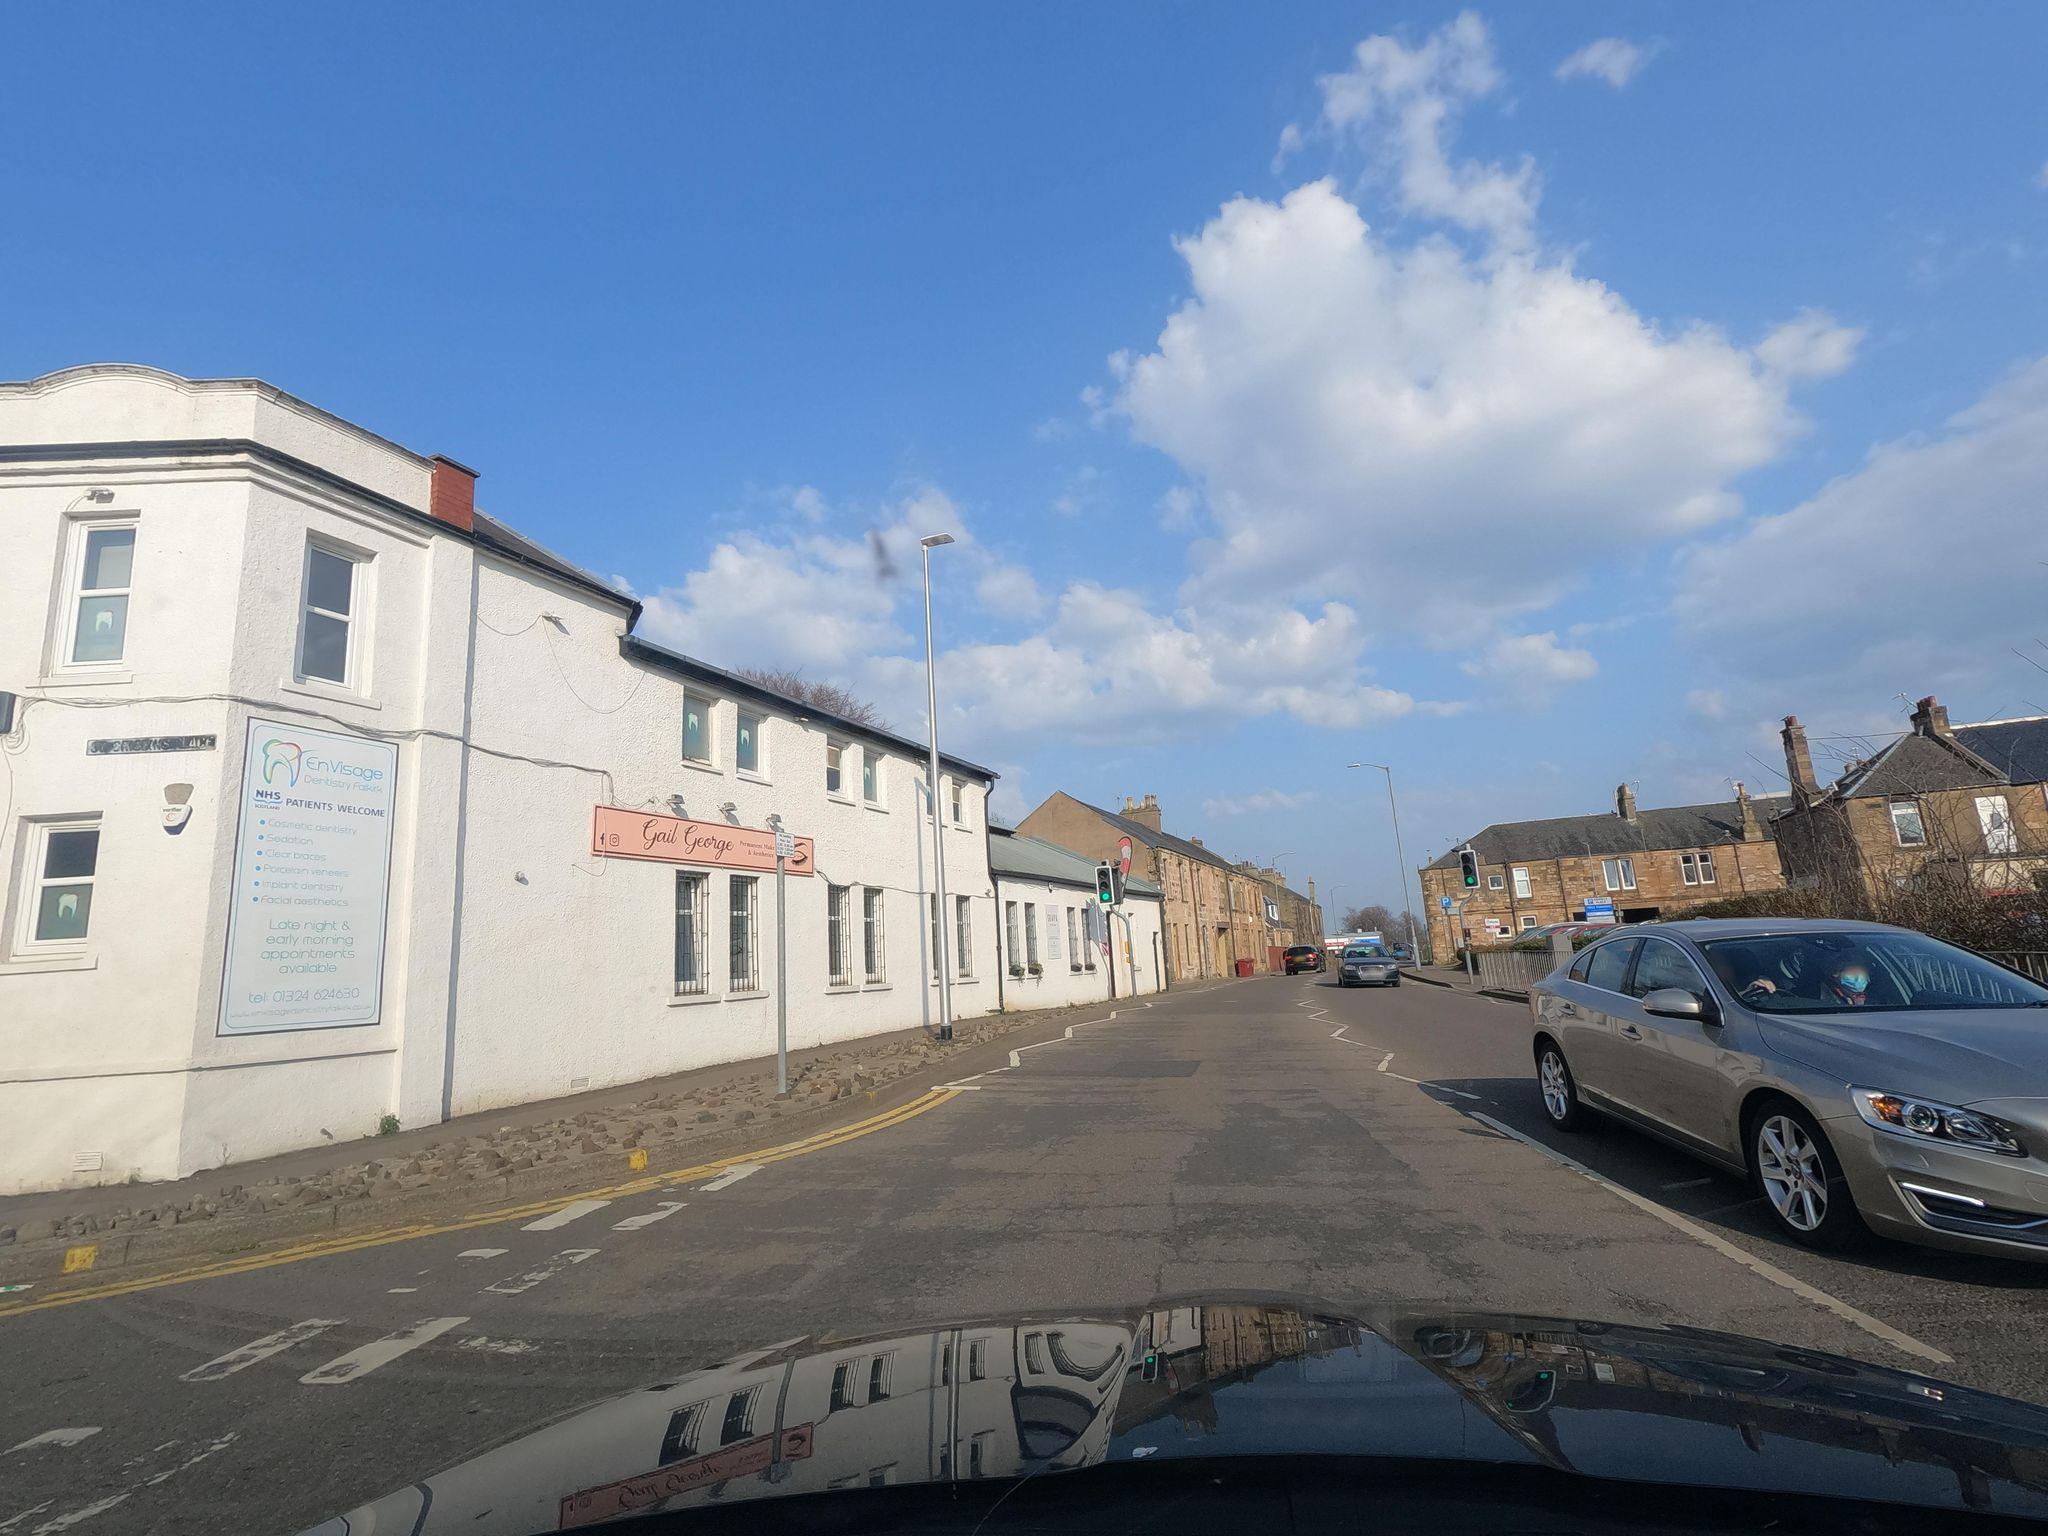car: (1522, 915, 2048, 1276), (1334, 942, 1401, 987), (1284, 944, 1326, 975)
